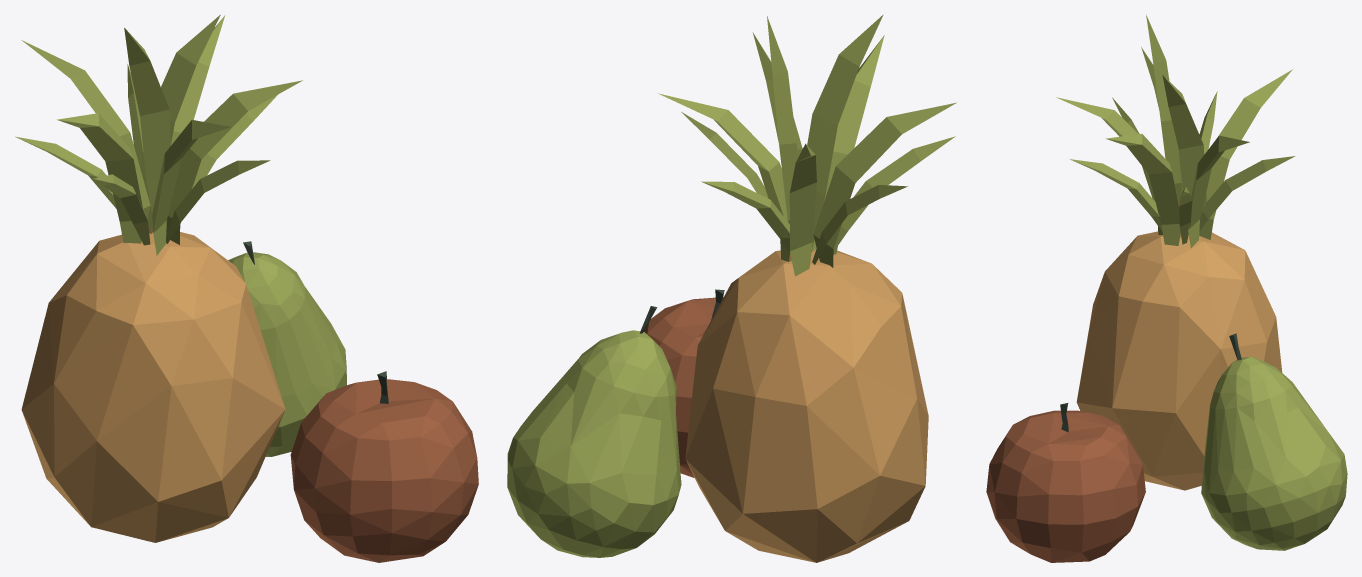
3 views of the same model, side by side, from view 1: azimuth 30°, elevation 25°; view 2: azimuth 150°, elevation 25°; view 3: azimuth 270°, elevation 25° (orthographic). The views are drawn at different scales.
Parts seen in each view (by area): view 1: Pineapple; view 2: Pineapple; view 3: Pineapple.
Part boxes in pixels (left/top/right/bottom): Pineapple: left=15, top=14, right=478, bottom=562; Pineapple: left=507, top=14, right=956, bottom=562; Pineapple: left=986, top=14, right=1347, bottom=562.
Size of the model in its own units: 197 by 275 by 203.
